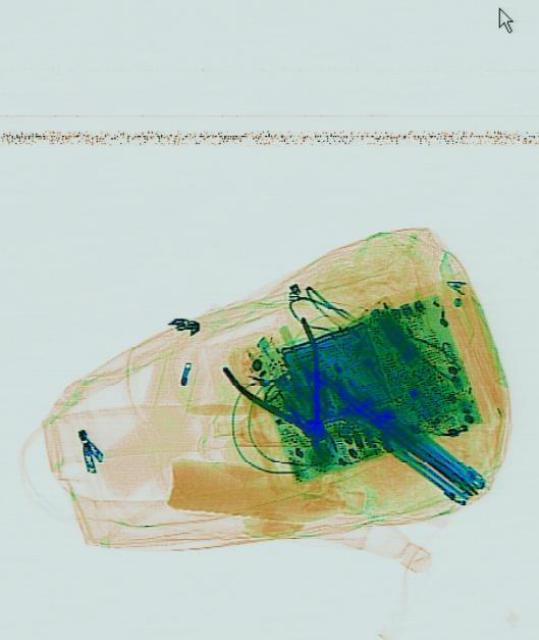Pliers: (219, 314, 364, 483)
